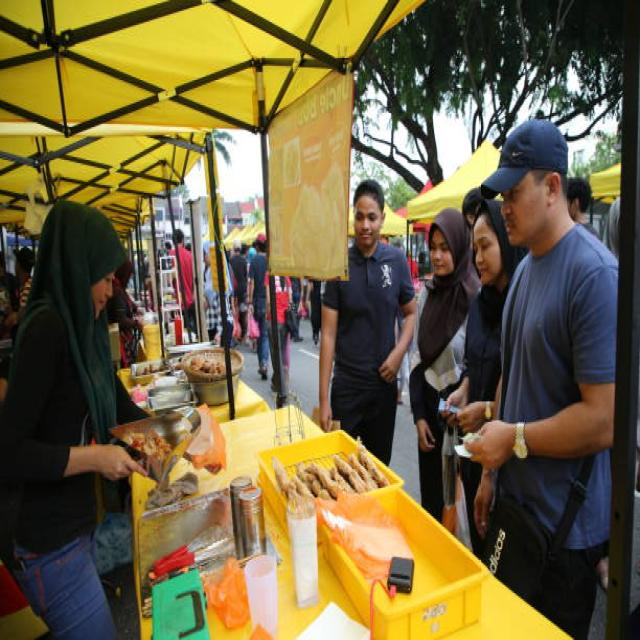Emperan: (41, 237, 594, 640)
